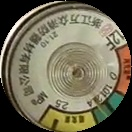green: (94, 90, 124, 125)
needle: (88, 92, 108, 119)
red: (113, 42, 132, 96)
yellow: (39, 105, 99, 132)
